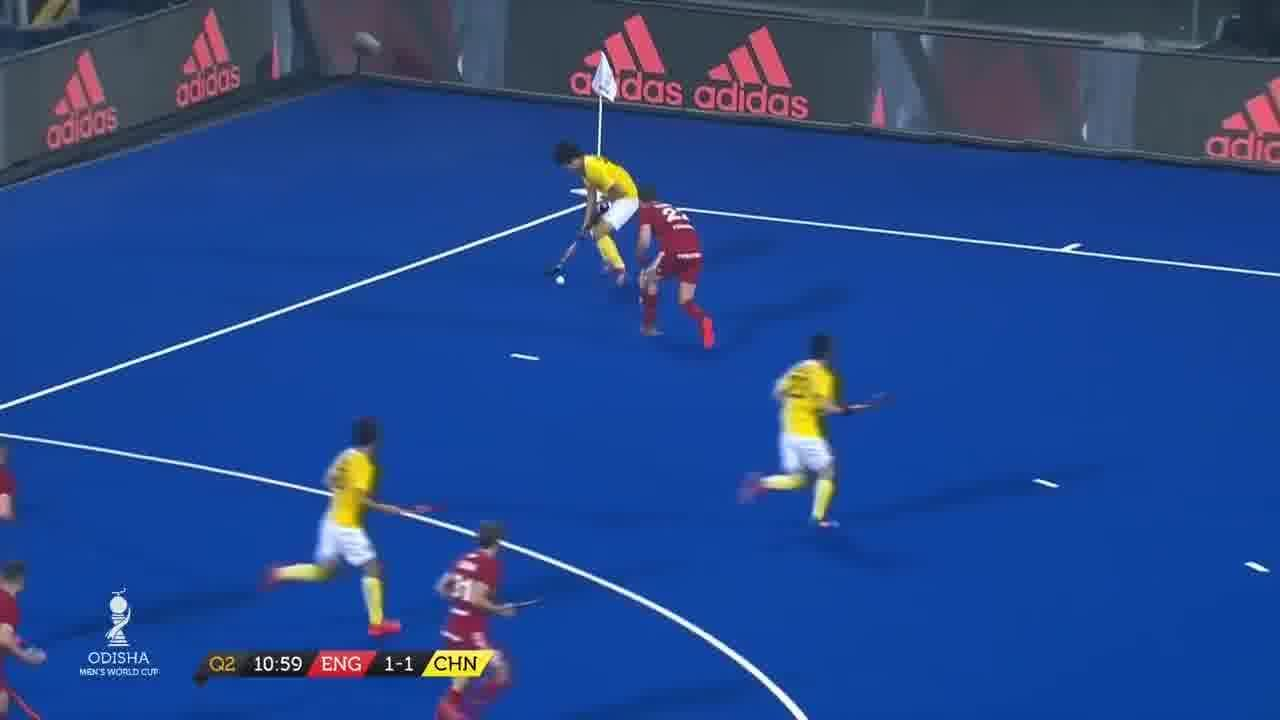ball: (546, 270, 564, 286)
